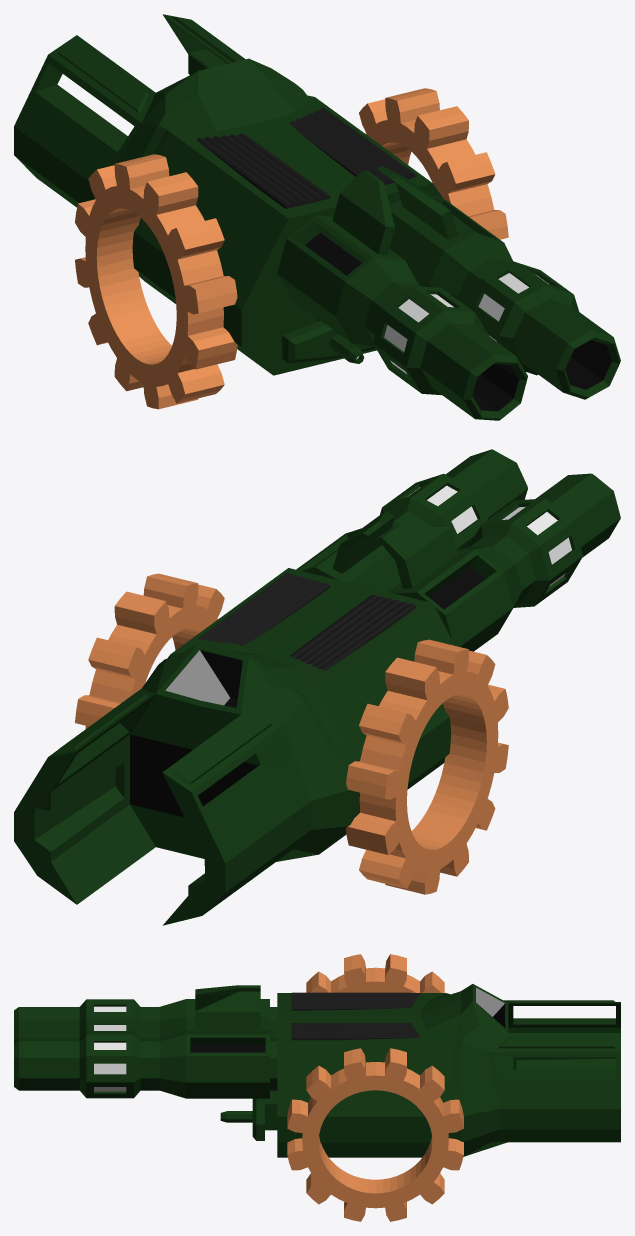
Rendered from Turret Head sep.fbx.
3 renders of one model, top to bottom at view 1: azimuth 30°, elevation 25°; view 2: azimuth 150°, elevation 25°; view 3: azimuth 270°, elevation 25°, orthographic. The views are drawn at different scales.
Parts seen in each view (by area): view 1: rendija.004; view 2: rendija.004; view 3: rendija.004.
Boxes of the visible parts, x1,y1,x2,y2 form: rendija.004: [14, 14, 620, 420]; rendija.004: [14, 449, 620, 925]; rendija.004: [14, 954, 620, 1221].
Bounding box in the file's own units: 328 × 254 × 779.
